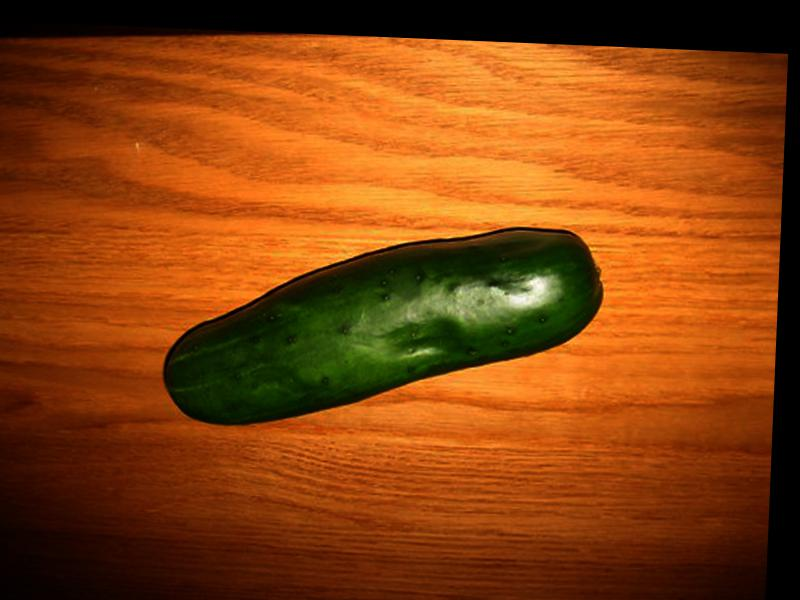Cucumber: (160, 213, 599, 437)
